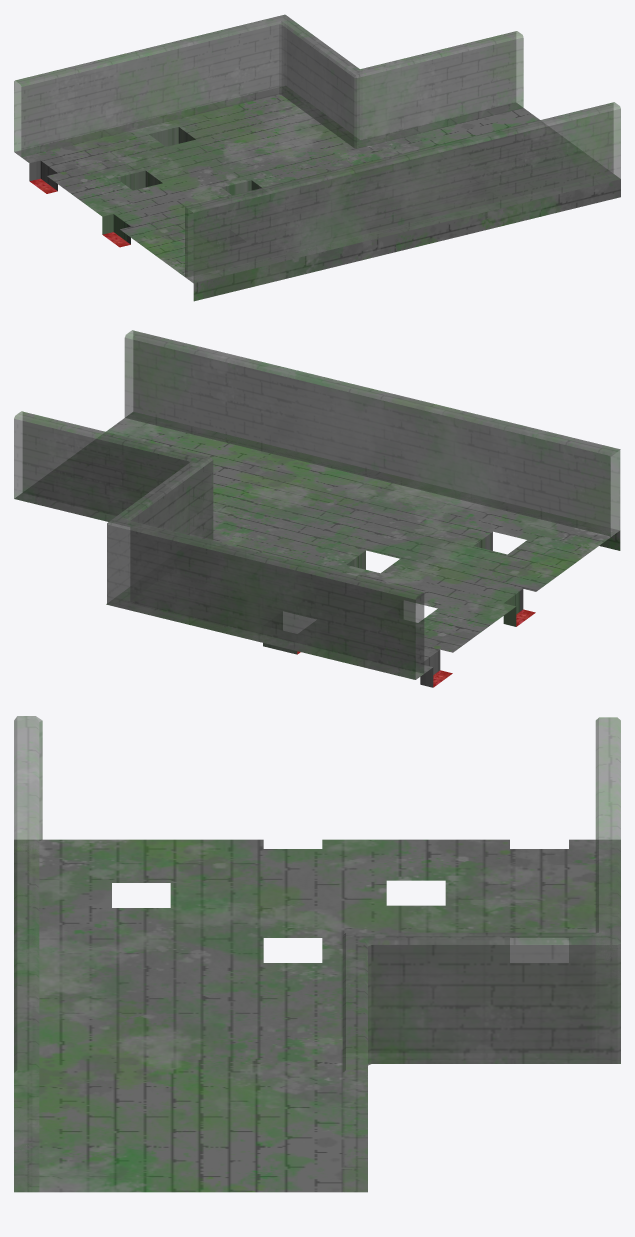
Rendered from lvl_1-cnk_3.obj.
3 views of the same model, one above another, from view 1: azimuth 30°, elevation 25°; view 2: azimuth 150°, elevation 25°; view 3: azimuth 270°, elevation 25° (orthographic). The views are drawn at different scales.
Parts seen in each view (by area): view 1: Cube.171, Cube.172, Cube.173; view 2: Cube.171, Cube.172, Cube.173; view 3: Cube.171, Cube.172, Cube.173.
Part boxes in pixels (x1=…): Cube.171: x1=14, y1=86, x2=620, y2=301; Cube.172: x1=14, y1=14, x2=523, y2=157; Cube.173: x1=185, y1=102, x2=620, y2=282; Cube.171: x1=15, y1=412, x2=620, y2=687; Cube.172: x1=14, y1=411, x2=424, y2=679; Cube.173: x1=124, y1=330, x2=620, y2=537; Cube.171: x1=14, y1=839, x2=620, y2=1192; Cube.172: x1=342, y1=717, x2=620, y2=1192; Cube.173: x1=14, y1=716, x2=42, y2=1192.
Bounding box in the file's own units: 99.4 × 20 × 72.
3 materials, 3 textured.
